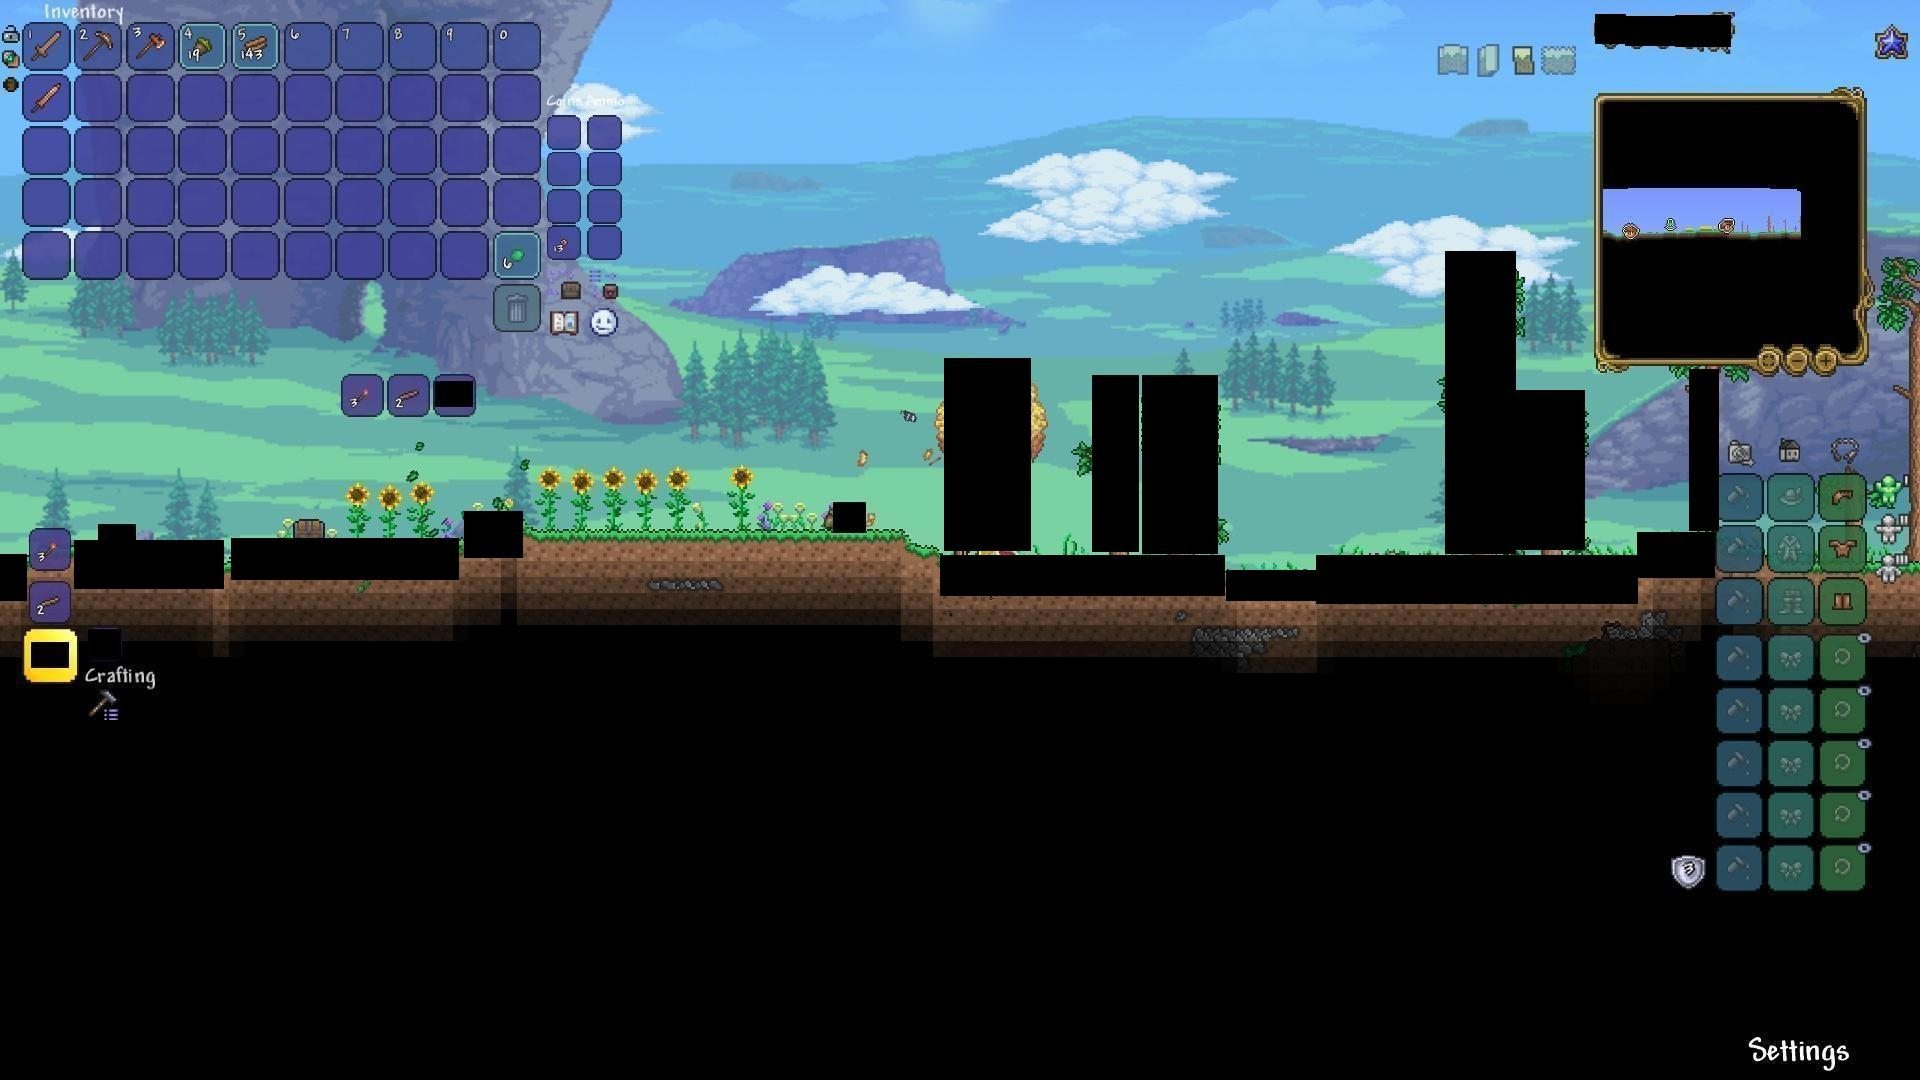breastplate: (1829, 537, 1857, 558)
dirt: (524, 520, 899, 570), (905, 538, 938, 582)
helmet: (1826, 484, 1858, 512)
legs: (1832, 587, 1857, 615)
wood: (243, 34, 270, 59)
